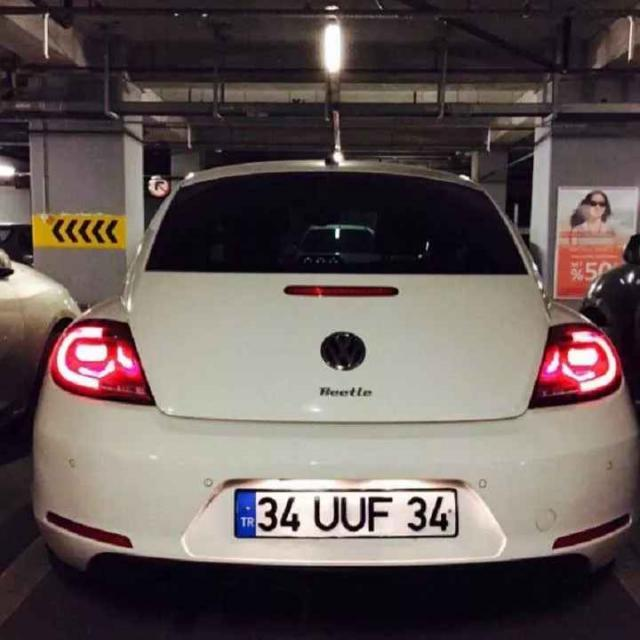plate: (231, 487, 458, 539)
